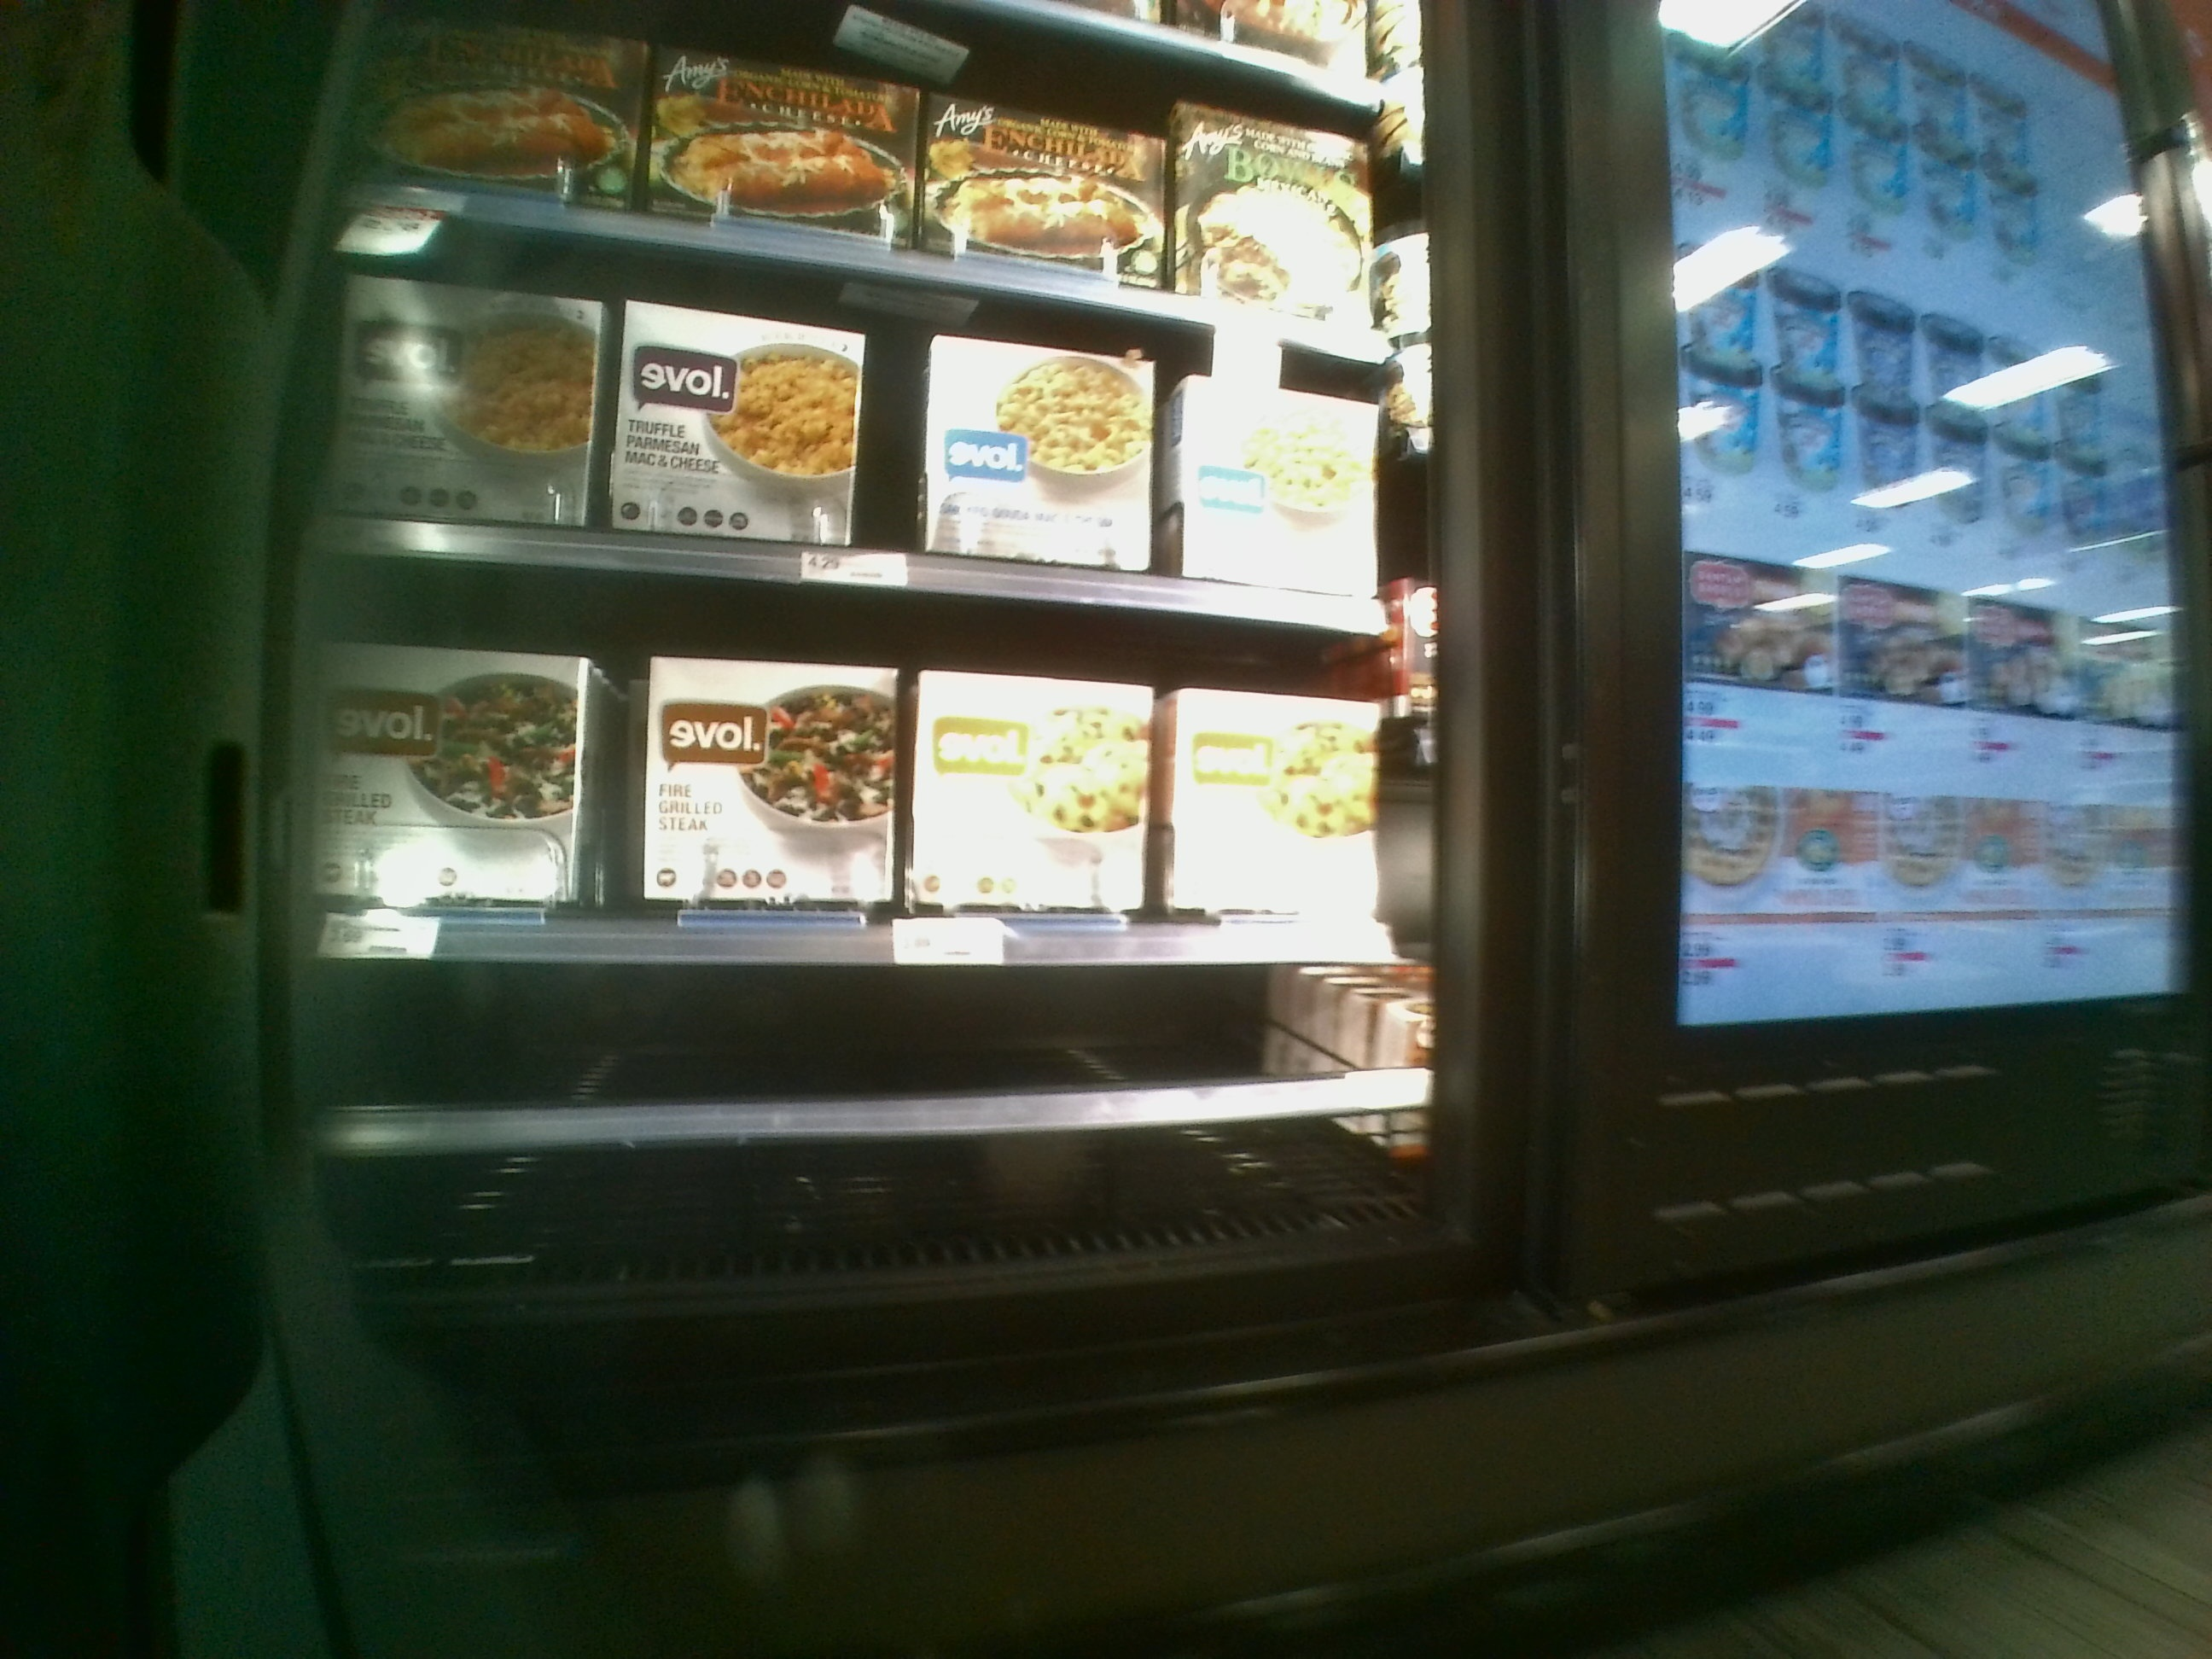shelf: (315, 626, 1428, 958), (336, 300, 1416, 636), (333, 951, 1423, 1255)
